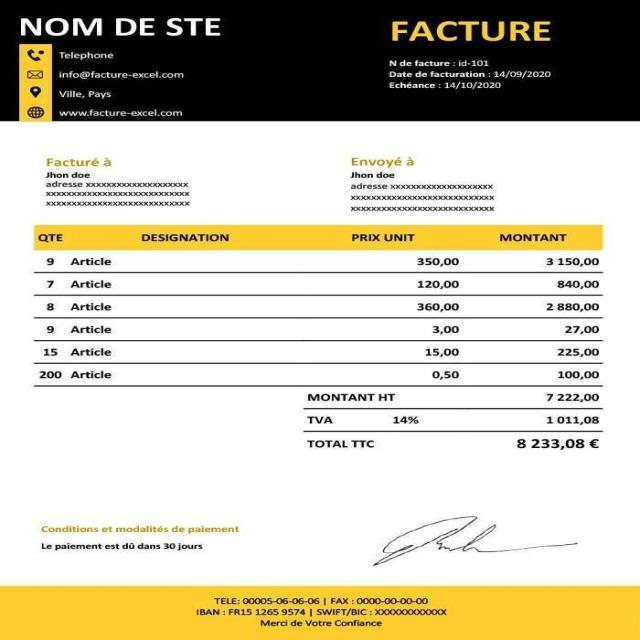customer_address: (348, 182, 496, 216)
customer_name: (347, 170, 398, 180)
due_date: (442, 80, 505, 93)
invoice_date: (492, 67, 557, 81)
invoice_number: (454, 57, 490, 69)
invoice_subtotal: (540, 388, 604, 406)
invoice_total: (506, 435, 604, 454)
item_description: (65, 252, 123, 389)
item_quantity: (38, 252, 62, 385)
item_total_price: (543, 252, 603, 385)
item_unit_price: (393, 253, 464, 384)
supplier_address: (55, 85, 118, 102)
supplier_name: (18, 14, 230, 41)
tax_amount: (537, 411, 605, 428)
tax_rate: (386, 411, 423, 427)
